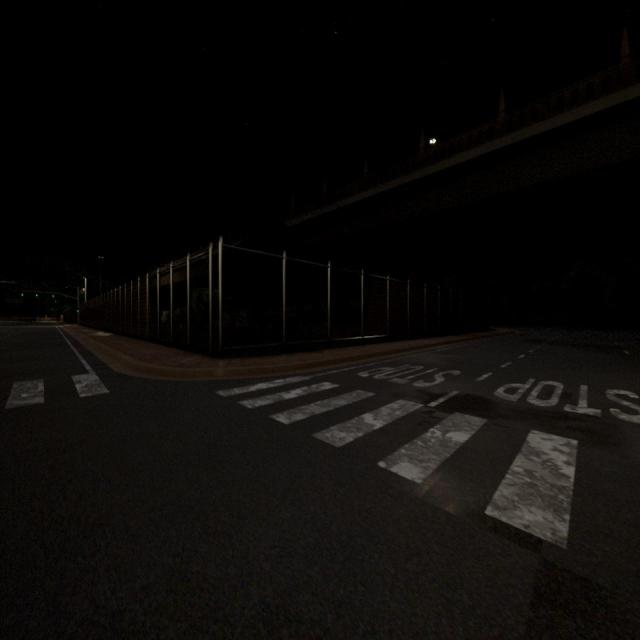traffic_light: (52, 292, 54, 298), (77, 307, 79, 313), (36, 292, 37, 297), (22, 292, 23, 296)
